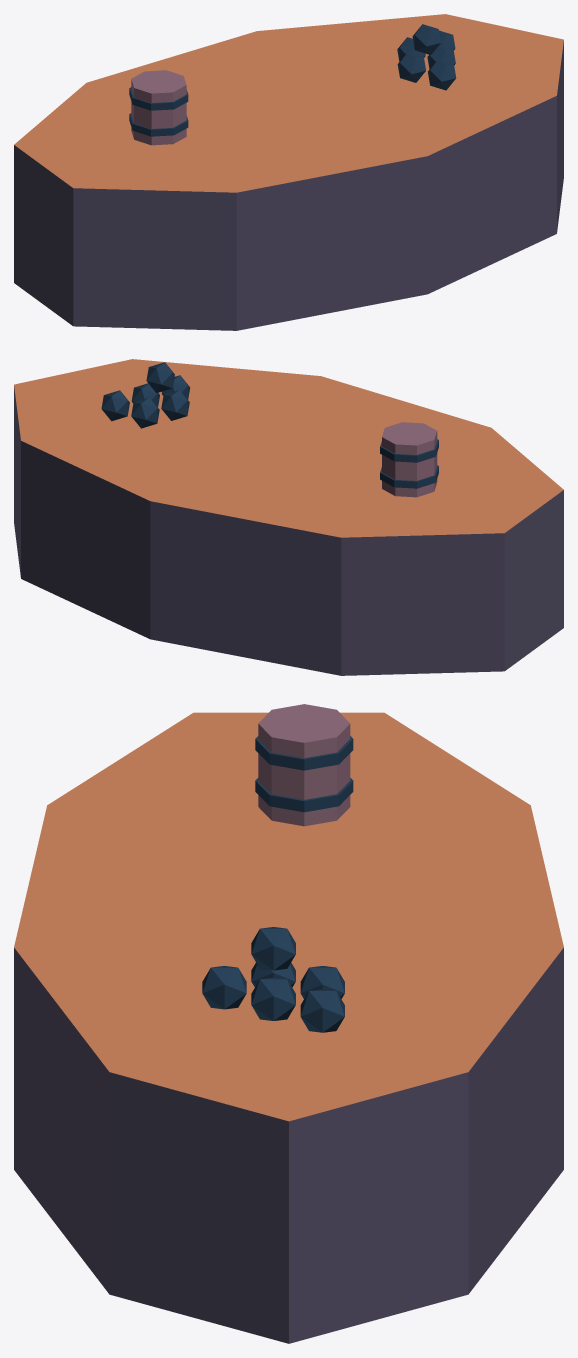
File: ledge.glb
3 renders of one model, top to bottom at view 1: azimuth 30°, elevation 25°; view 2: azimuth 150°, elevation 25°; view 3: azimuth 270°, elevation 25°, orthographic. The views are drawn at different scales.
Visible parts, largest first — view 1: Ledge; view 2: Ledge; view 3: Ledge.
Boxes of the visible parts, x1,y1,x2,y2 form: Ledge: (14,14,563,330); Ledge: (14,359,563,675); Ledge: (14,704,563,1343).
Bounding box in the file's own units: 6.3 × 2.2 × 3.58.
